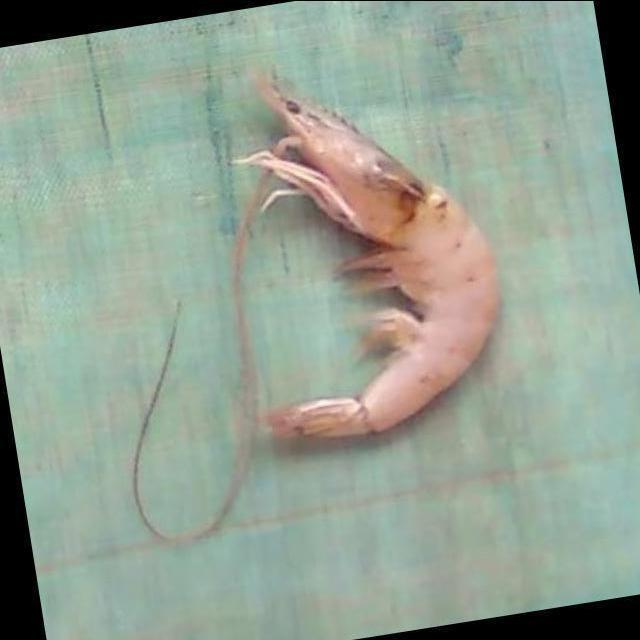shrimp: (236, 77, 500, 438)
